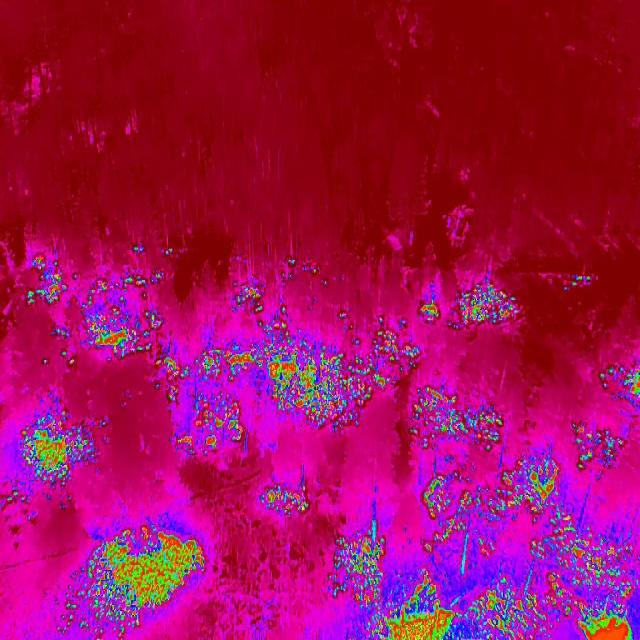fire: (167, 316, 423, 466), (70, 516, 212, 629), (418, 454, 564, 546), (530, 507, 638, 622), (84, 266, 174, 360), (9, 409, 96, 503), (410, 376, 508, 456), (371, 573, 464, 639), (449, 272, 536, 332), (462, 577, 543, 640), (326, 530, 388, 611), (566, 418, 624, 474), (21, 253, 70, 306), (568, 605, 636, 640), (258, 479, 312, 522), (596, 360, 640, 404), (232, 276, 272, 314), (554, 267, 602, 294), (416, 298, 442, 330), (161, 242, 181, 260), (132, 242, 148, 259)
